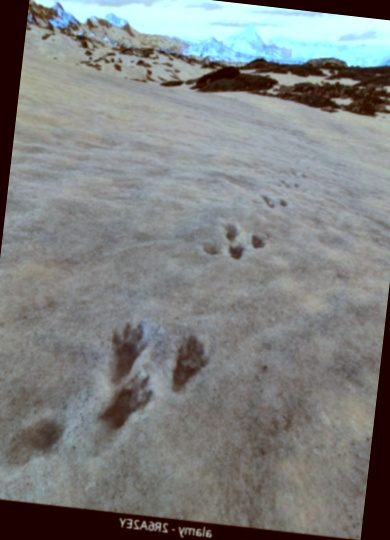ecureuil: (88, 305, 171, 448), (197, 211, 279, 275), (164, 327, 216, 394)
